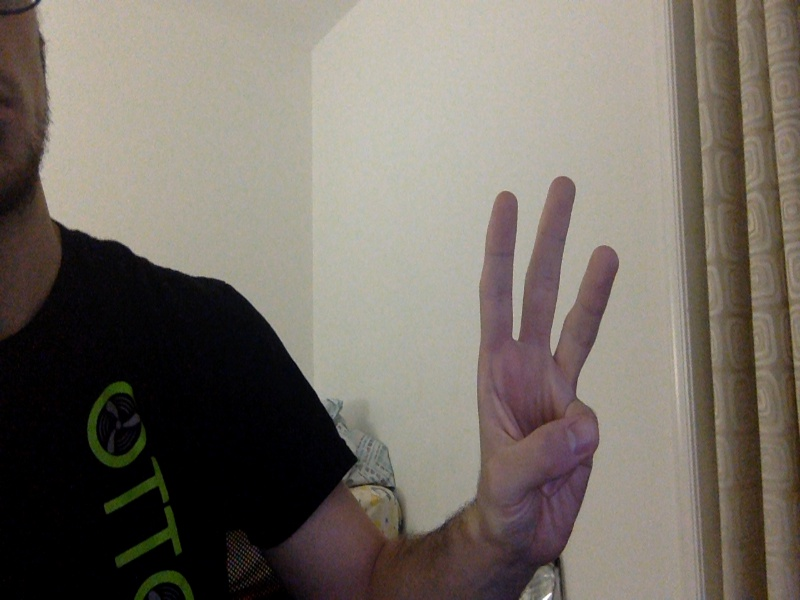3-hand: (479, 175, 619, 559)
